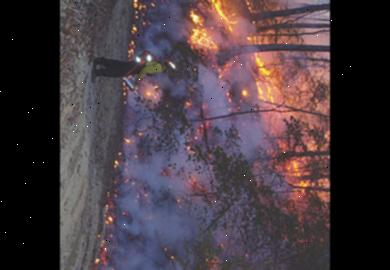fire: (79, 118, 314, 270), (176, 0, 281, 113)
